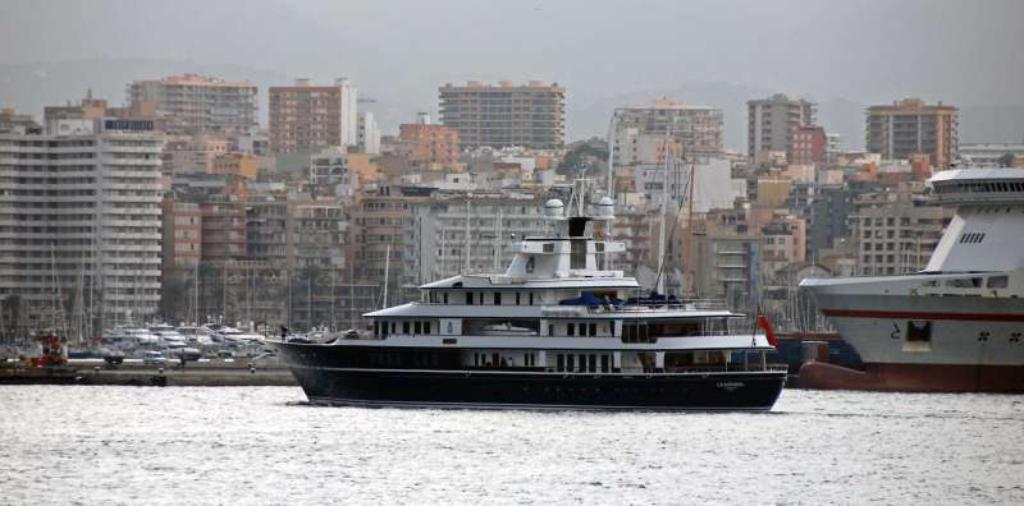PassengerShip: (269, 174, 783, 412), (796, 142, 1024, 402)
